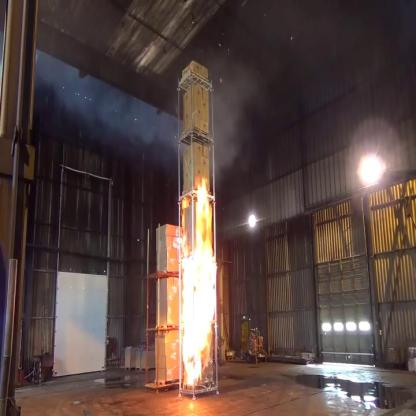fire: (177, 172, 218, 403)
